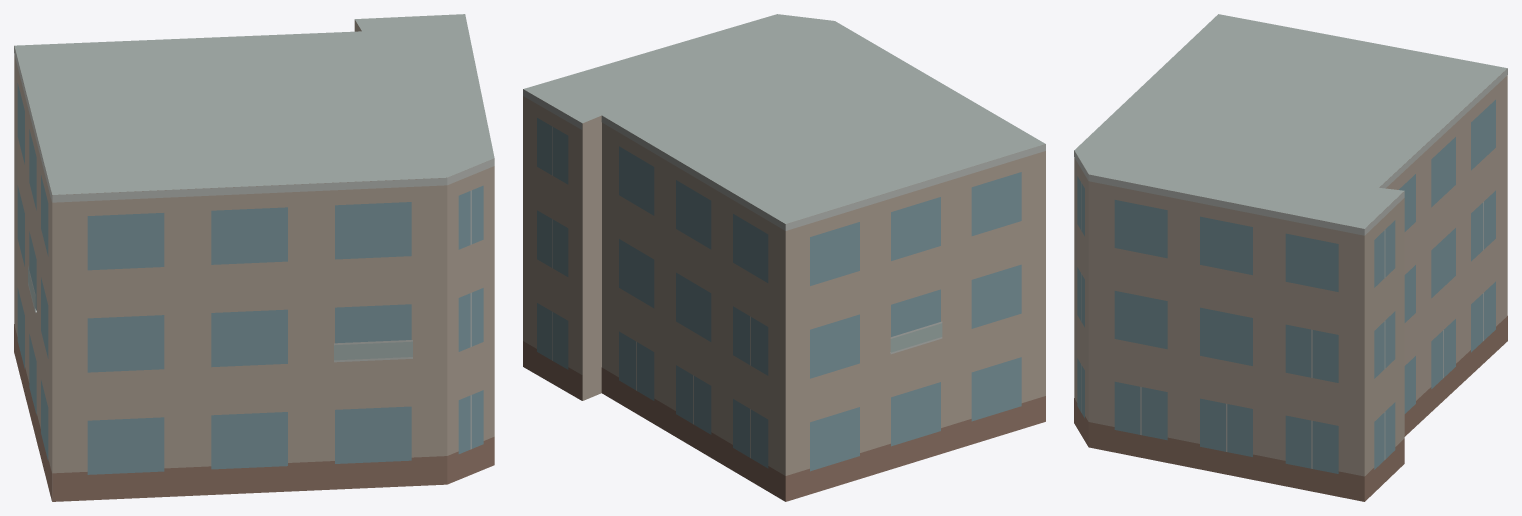
File: survey-upis-33006544.glb
3 renders of one model, left to right at view 1: azimuth 30°, elevation 25°; view 2: azimuth 150°, elevation 25°; view 3: azimuth 270°, elevation 25°, orthographic. The views are drawn at different scales.
Visible parts, largest first — view 1: survey-upis-33006544.tmp; view 2: survey-upis-33006544.tmp; view 3: survey-upis-33006544.tmp.
Part boxes in pixels (x1,y1,x2,y2): survey-upis-33006544.tmp: [14, 14, 494, 501]; survey-upis-33006544.tmp: [523, 14, 1045, 501]; survey-upis-33006544.tmp: [1074, 14, 1507, 501].
Bounding box in the file's own units: 16.56 × 9.8 × 14.12.
